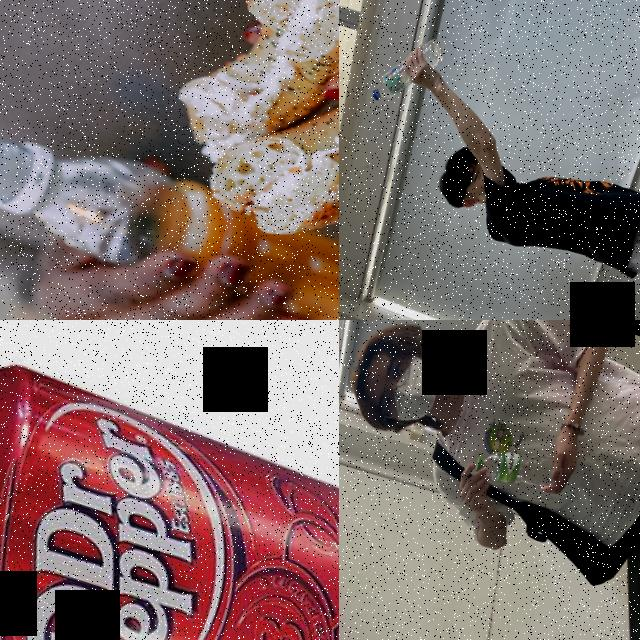bottle: (0, 107, 339, 320), (368, 22, 449, 116), (472, 430, 568, 501)
can: (0, 324, 339, 640)
